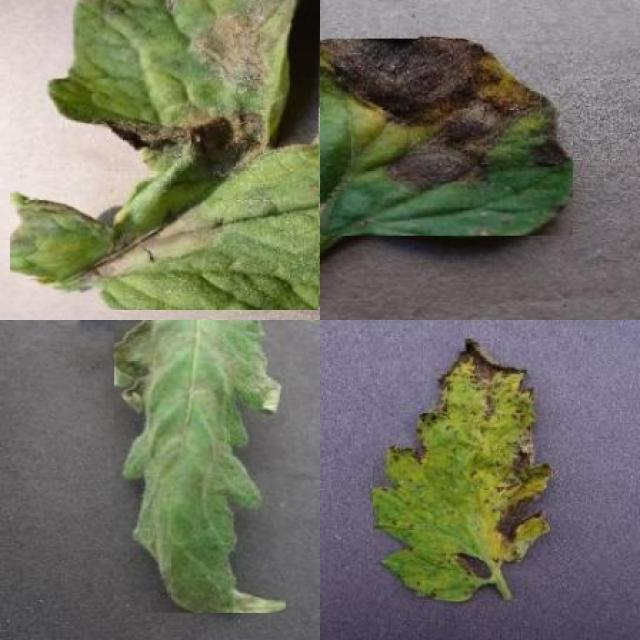Early Blight: (320, 38, 573, 235)
Late Blight: (10, 0, 319, 310), (115, 320, 285, 613)
Septoria: (373, 338, 551, 602)
